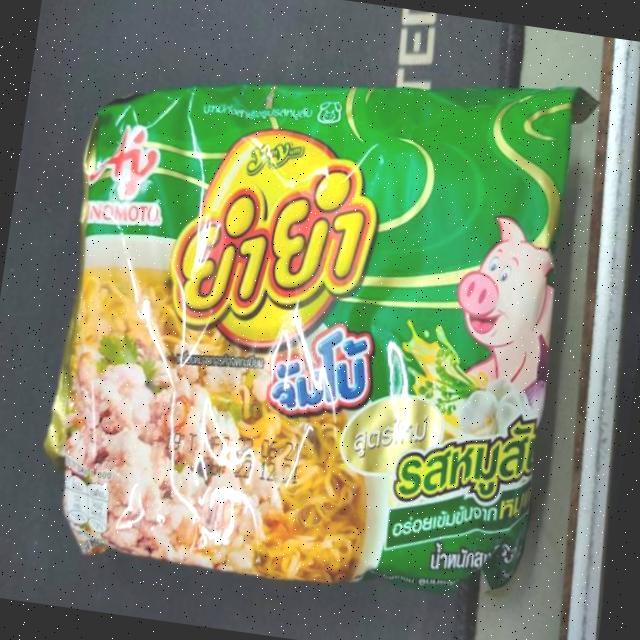Plastic: (7, 13, 619, 640)
